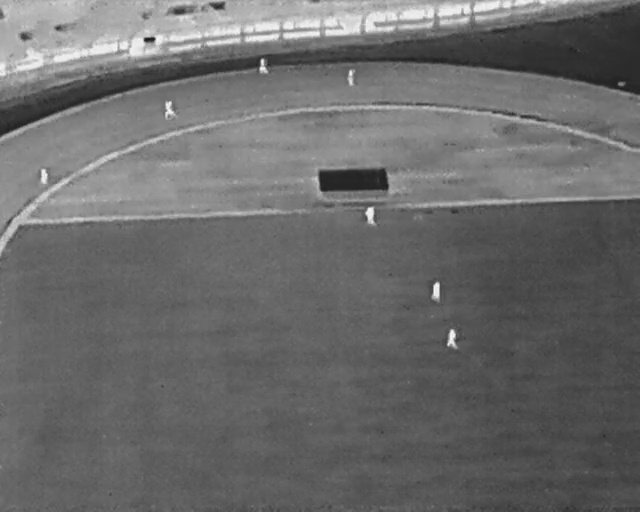Person: (164, 100, 178, 121), (430, 281, 441, 303), (447, 329, 458, 349), (365, 206, 376, 225), (347, 68, 356, 86), (259, 58, 269, 74), (40, 168, 48, 185)
